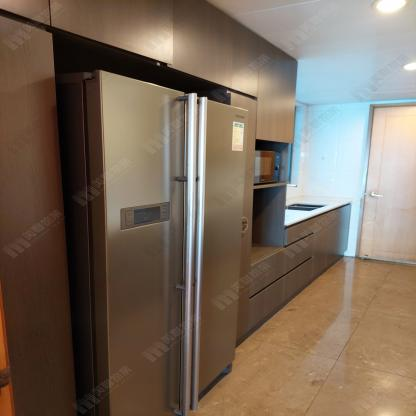Cupboard: (2, 1, 303, 143), (244, 205, 347, 338)
Fridge: (65, 70, 251, 415)
Sink: (286, 203, 331, 211)
